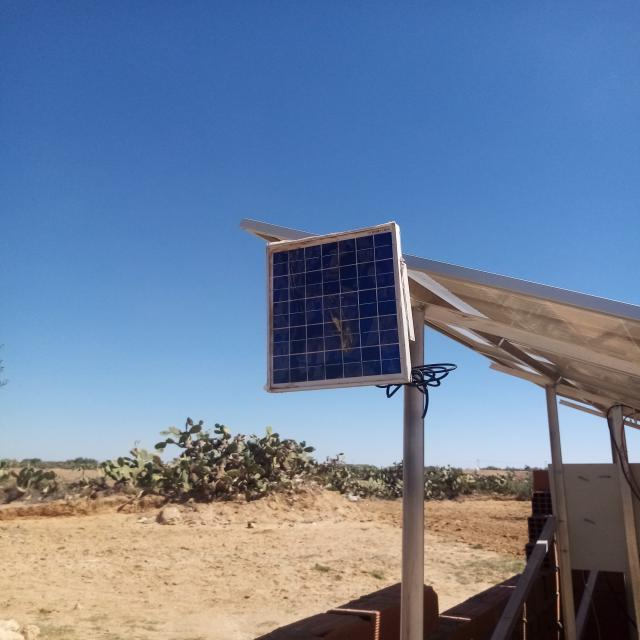faulty: (267, 224, 407, 390)
